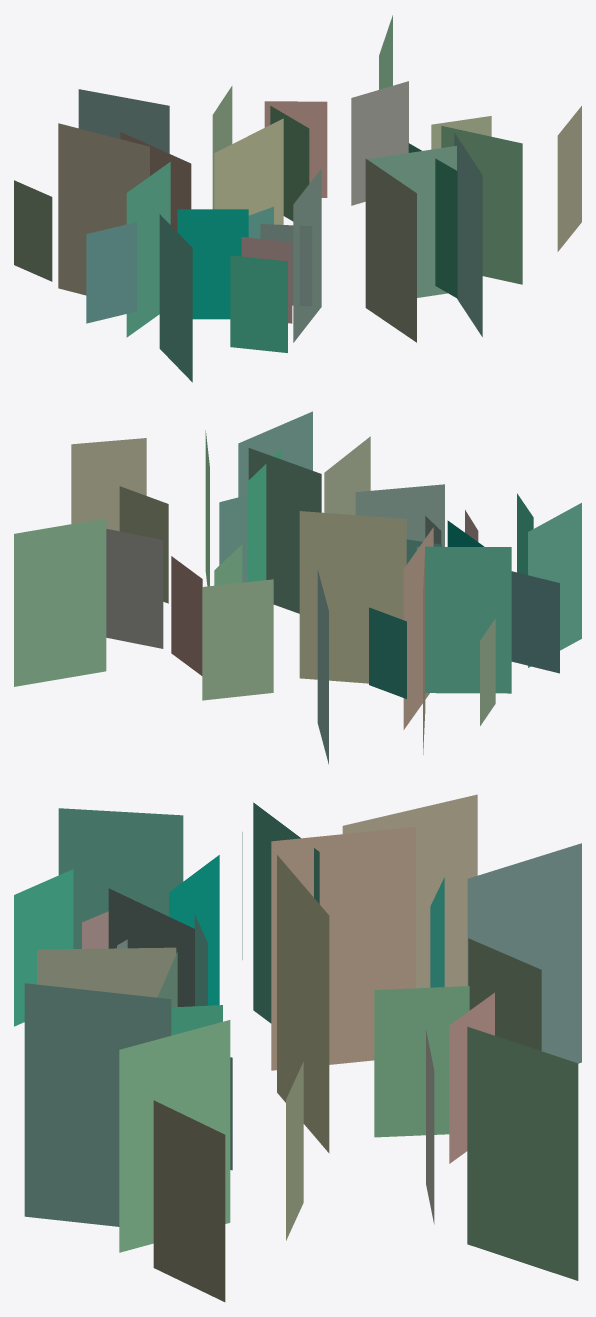
The model's file is WaterImpactSpray_A.fbx.
The picture shows the model from 3 angles, top to bottom: view 1: azimuth 30°, elevation 25°; view 2: azimuth 150°, elevation 25°; view 3: azimuth 270°, elevation 25°; orthographic projection. The views are drawn at different scales.
Parts seen in each view (by area): view 1: WaterImpactSpray_A; view 2: WaterImpactSpray_A; view 3: WaterImpactSpray_A.
Part boxes in pixels (left/top/right/bottom): WaterImpactSpray_A: left=14, top=15, right=581, bottom=382; WaterImpactSpray_A: left=14, top=411, right=581, bottom=764; WaterImpactSpray_A: left=14, top=794, right=581, bottom=1301.
Size of the model in its own units: 0.2148 by 0.0694 by 0.1502.
